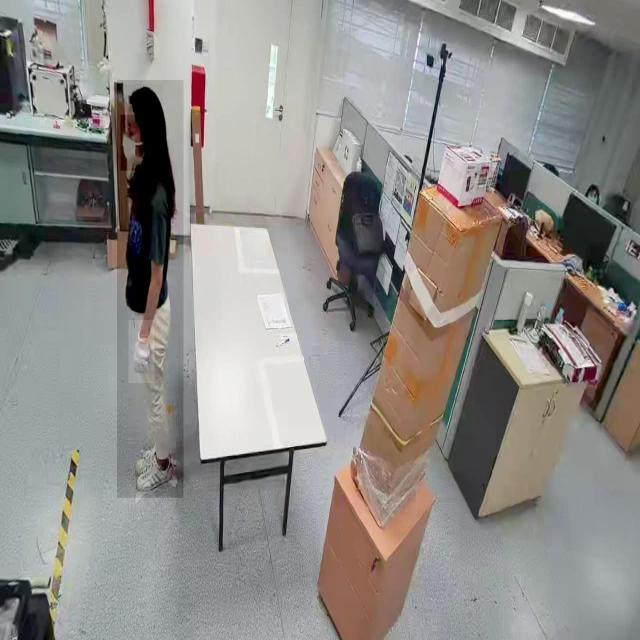face_mask: (120, 114, 146, 170)
hand_glove: (129, 320, 155, 384)
head_nohelmet: (125, 84, 163, 113)
person: (117, 80, 184, 499)
shoes: (136, 460, 175, 495), (133, 440, 169, 474)
